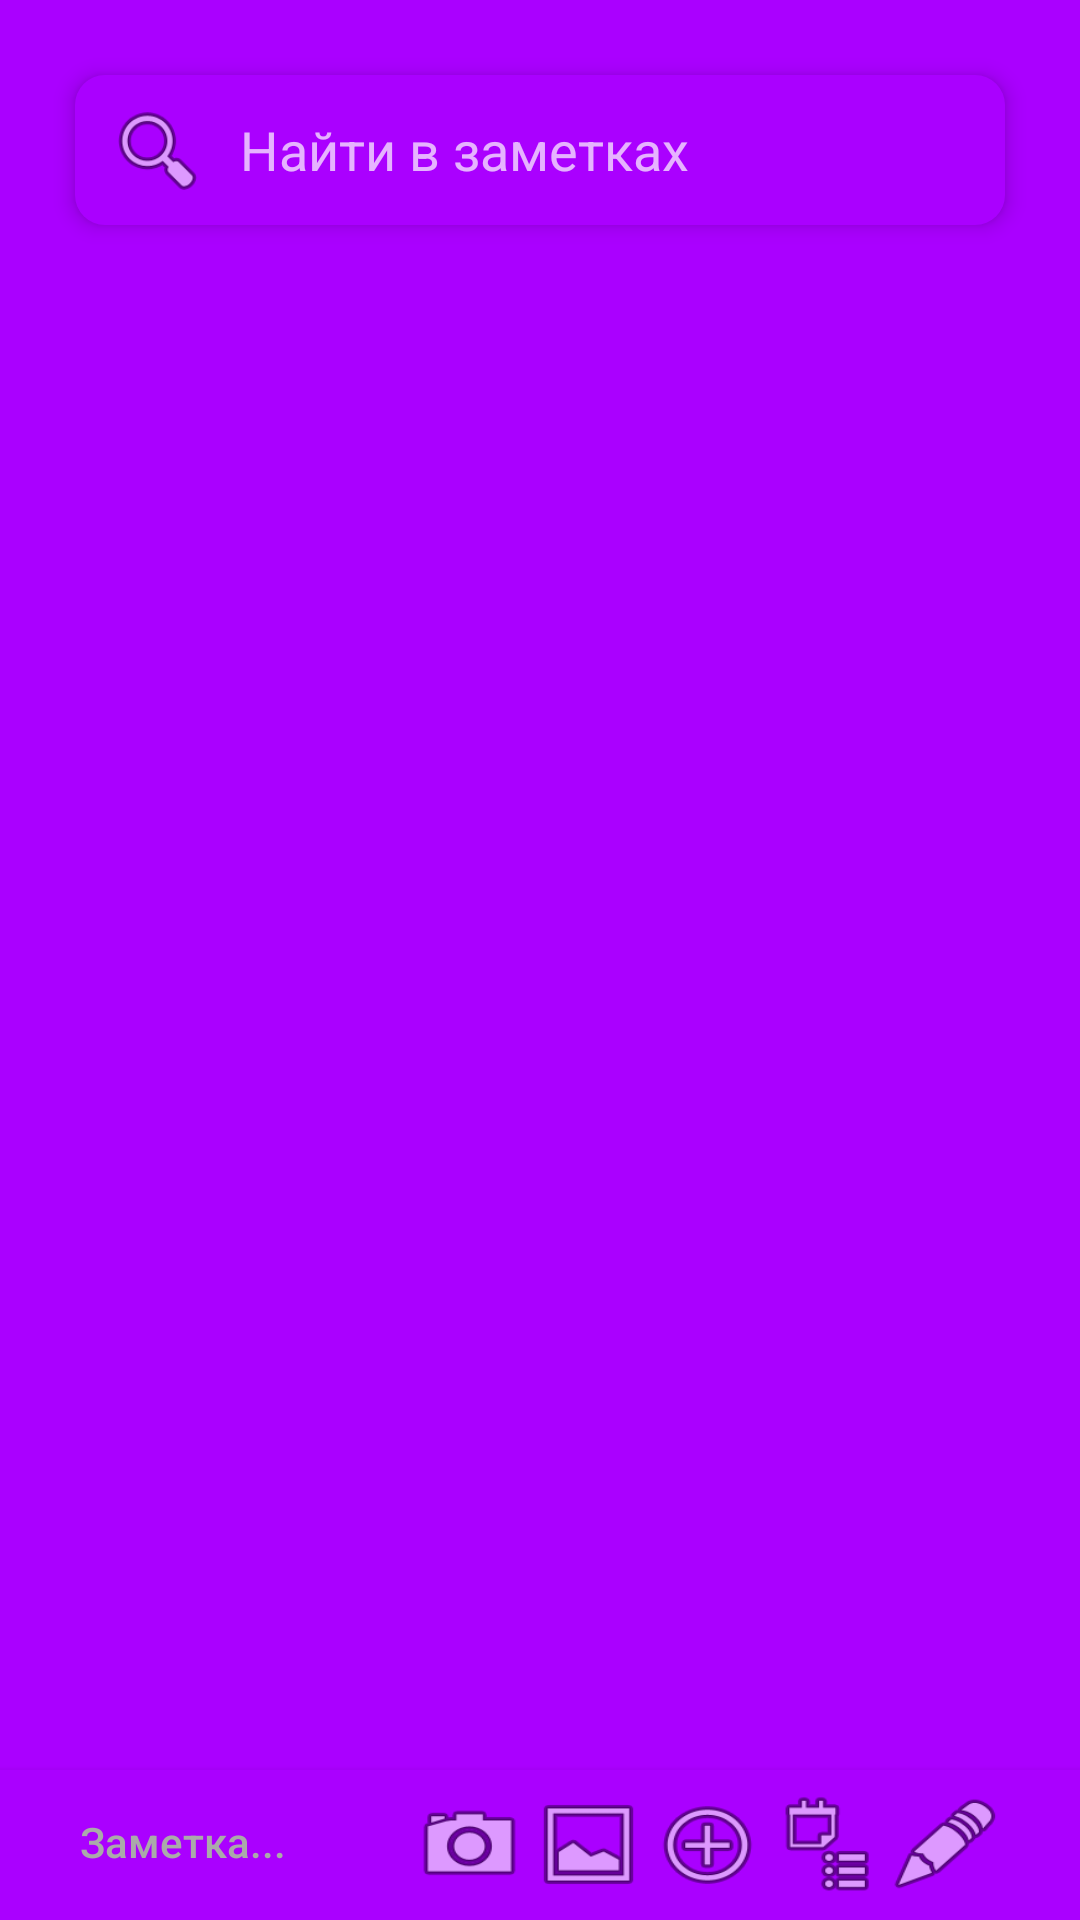

Point at icon controls on the screen. Image size 1080px x 1920px, points as point (x, y).
add: point (707, 1845)
agenda: point (827, 1844)
camera: point (469, 1842)
edit: point (945, 1843)
gallery: point (588, 1844)
search: point (157, 151)
